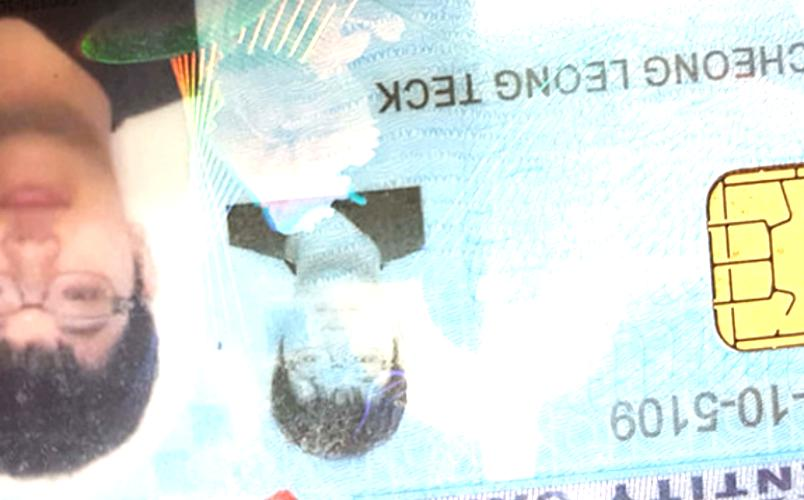hologramB: (197, 1, 373, 199)
